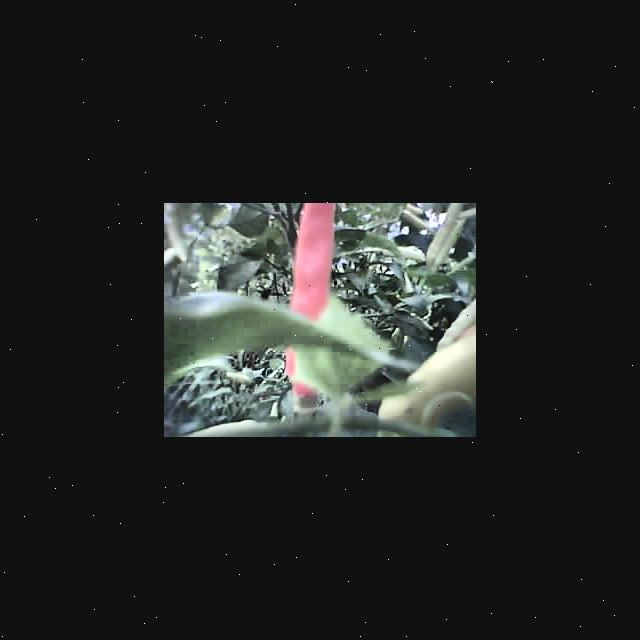Cabai: (298, 203, 341, 311)
